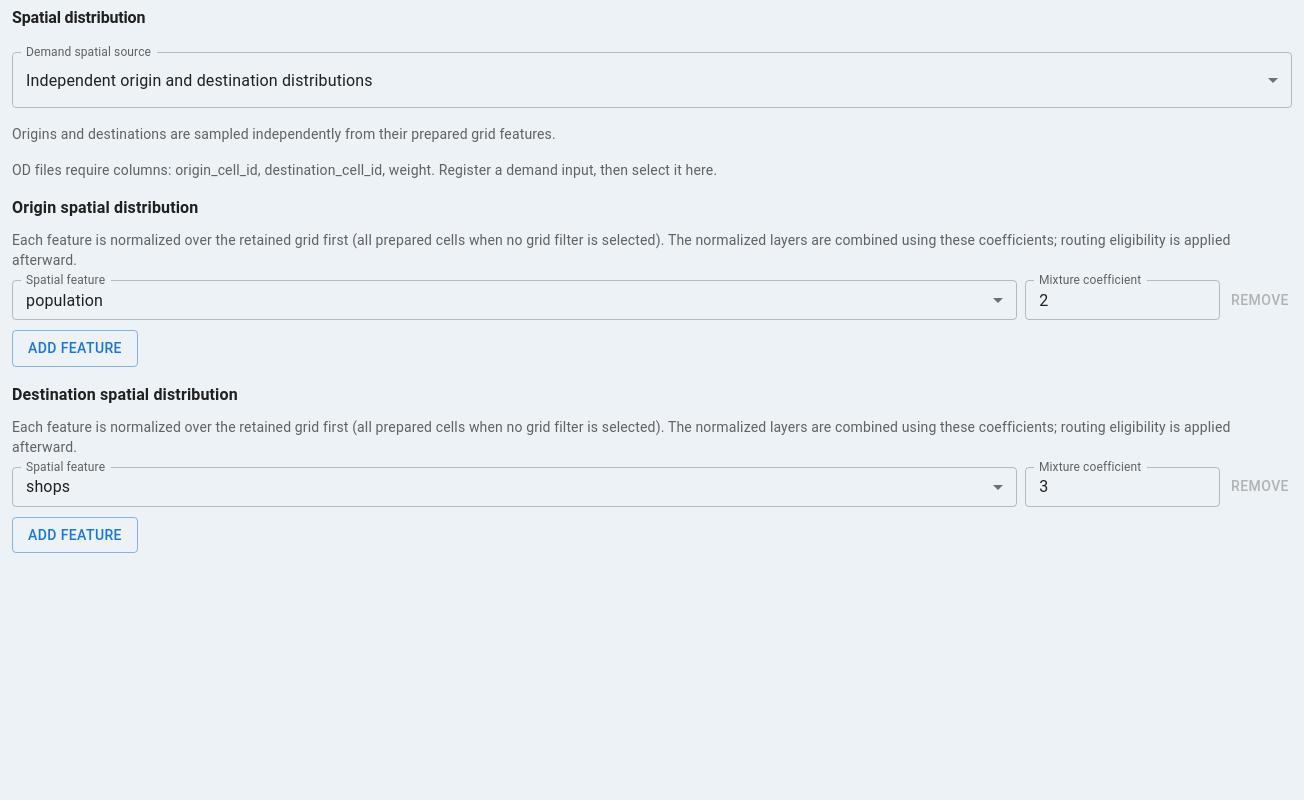
Test case: DemandSpatialEditor › offers compatible demand and legacy feature-role tables, excluding unrelated or incomplete schemas
This screenshot has width=1304, height=800.
Step 1. Click the dropdown named "Demand spatial source" → click(199, 80), box [26,70,373,90]
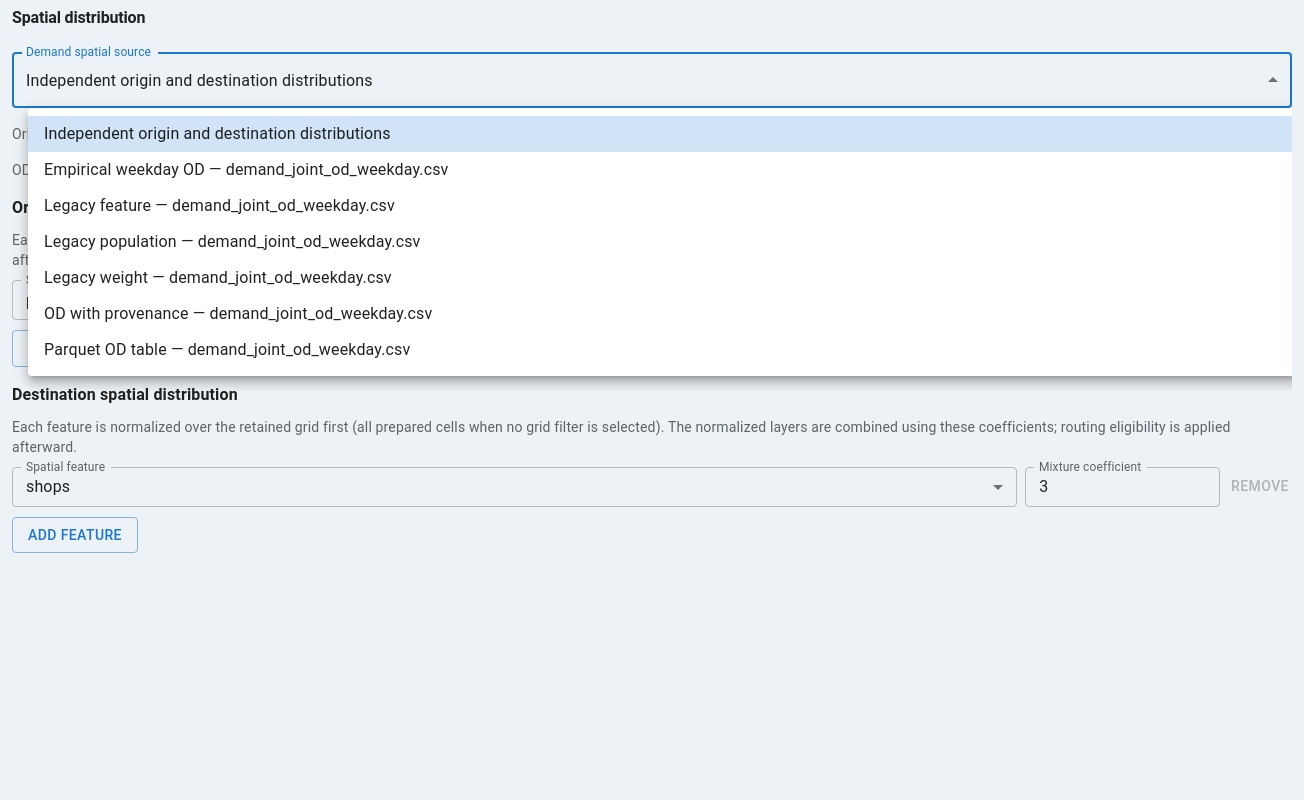
expect the option "Empirical weekday OD — demand_joint_od_weekday.csv" is shown: met, box [44,160,448,179]
expect the option "Legacy feature — demand_joint_od_weekday.csv" is shown: met, box [44,196,395,215]
expect the option "Legacy population — demand_joint_od_weekday.csv" is shown: met, box [44,232,420,251]
